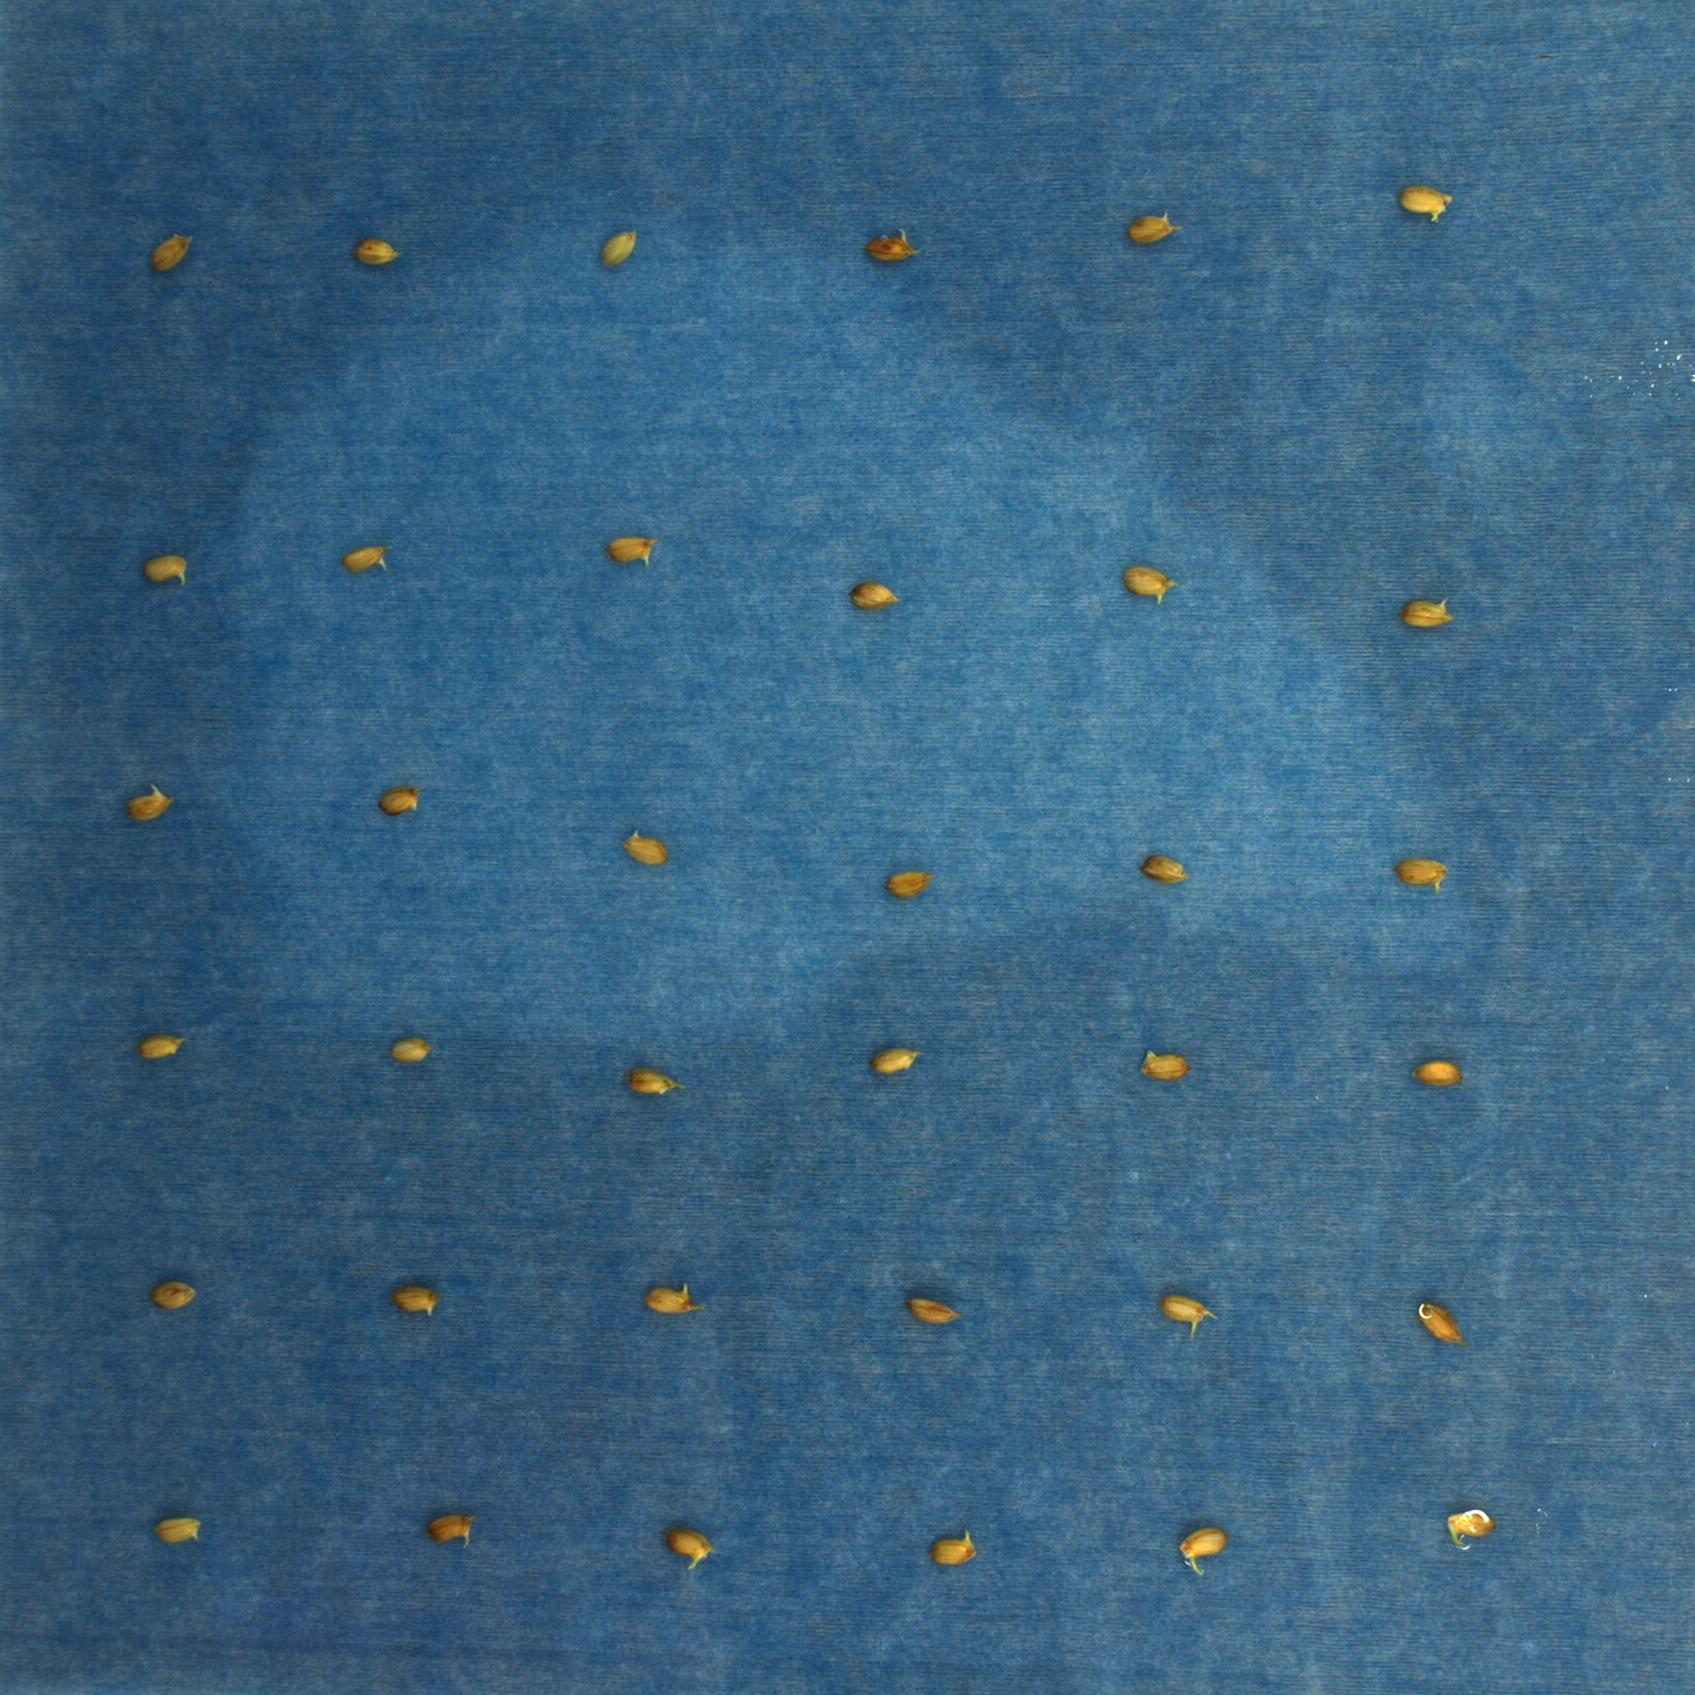not sprout: (1180, 1526, 1231, 1579), (1163, 1295, 1217, 1343), (1122, 563, 1177, 608), (664, 1526, 712, 1574), (1399, 185, 1454, 225), (1419, 1299, 1465, 1347), (927, 1527, 979, 1569), (1399, 594, 1458, 632), (146, 231, 191, 278), (619, 827, 671, 868), (865, 230, 917, 269), (126, 782, 172, 826), (425, 1510, 473, 1552), (644, 1284, 703, 1318), (1125, 211, 1181, 247), (1138, 1048, 1191, 1085), (1445, 1509, 1495, 1548), (906, 1291, 961, 1326), (605, 537, 660, 570), (340, 543, 391, 577), (388, 1284, 439, 1318), (1392, 857, 1448, 888), (141, 553, 191, 587), (624, 1069, 685, 1097), (151, 1277, 196, 1315), (847, 581, 900, 612), (1139, 854, 1191, 885), (154, 1513, 200, 1546), (599, 230, 638, 269), (355, 237, 399, 272), (885, 869, 931, 900), (137, 1034, 185, 1063), (871, 1048, 920, 1076), (379, 784, 419, 818), (1412, 1060, 1464, 1087), (388, 1038, 427, 1063)
